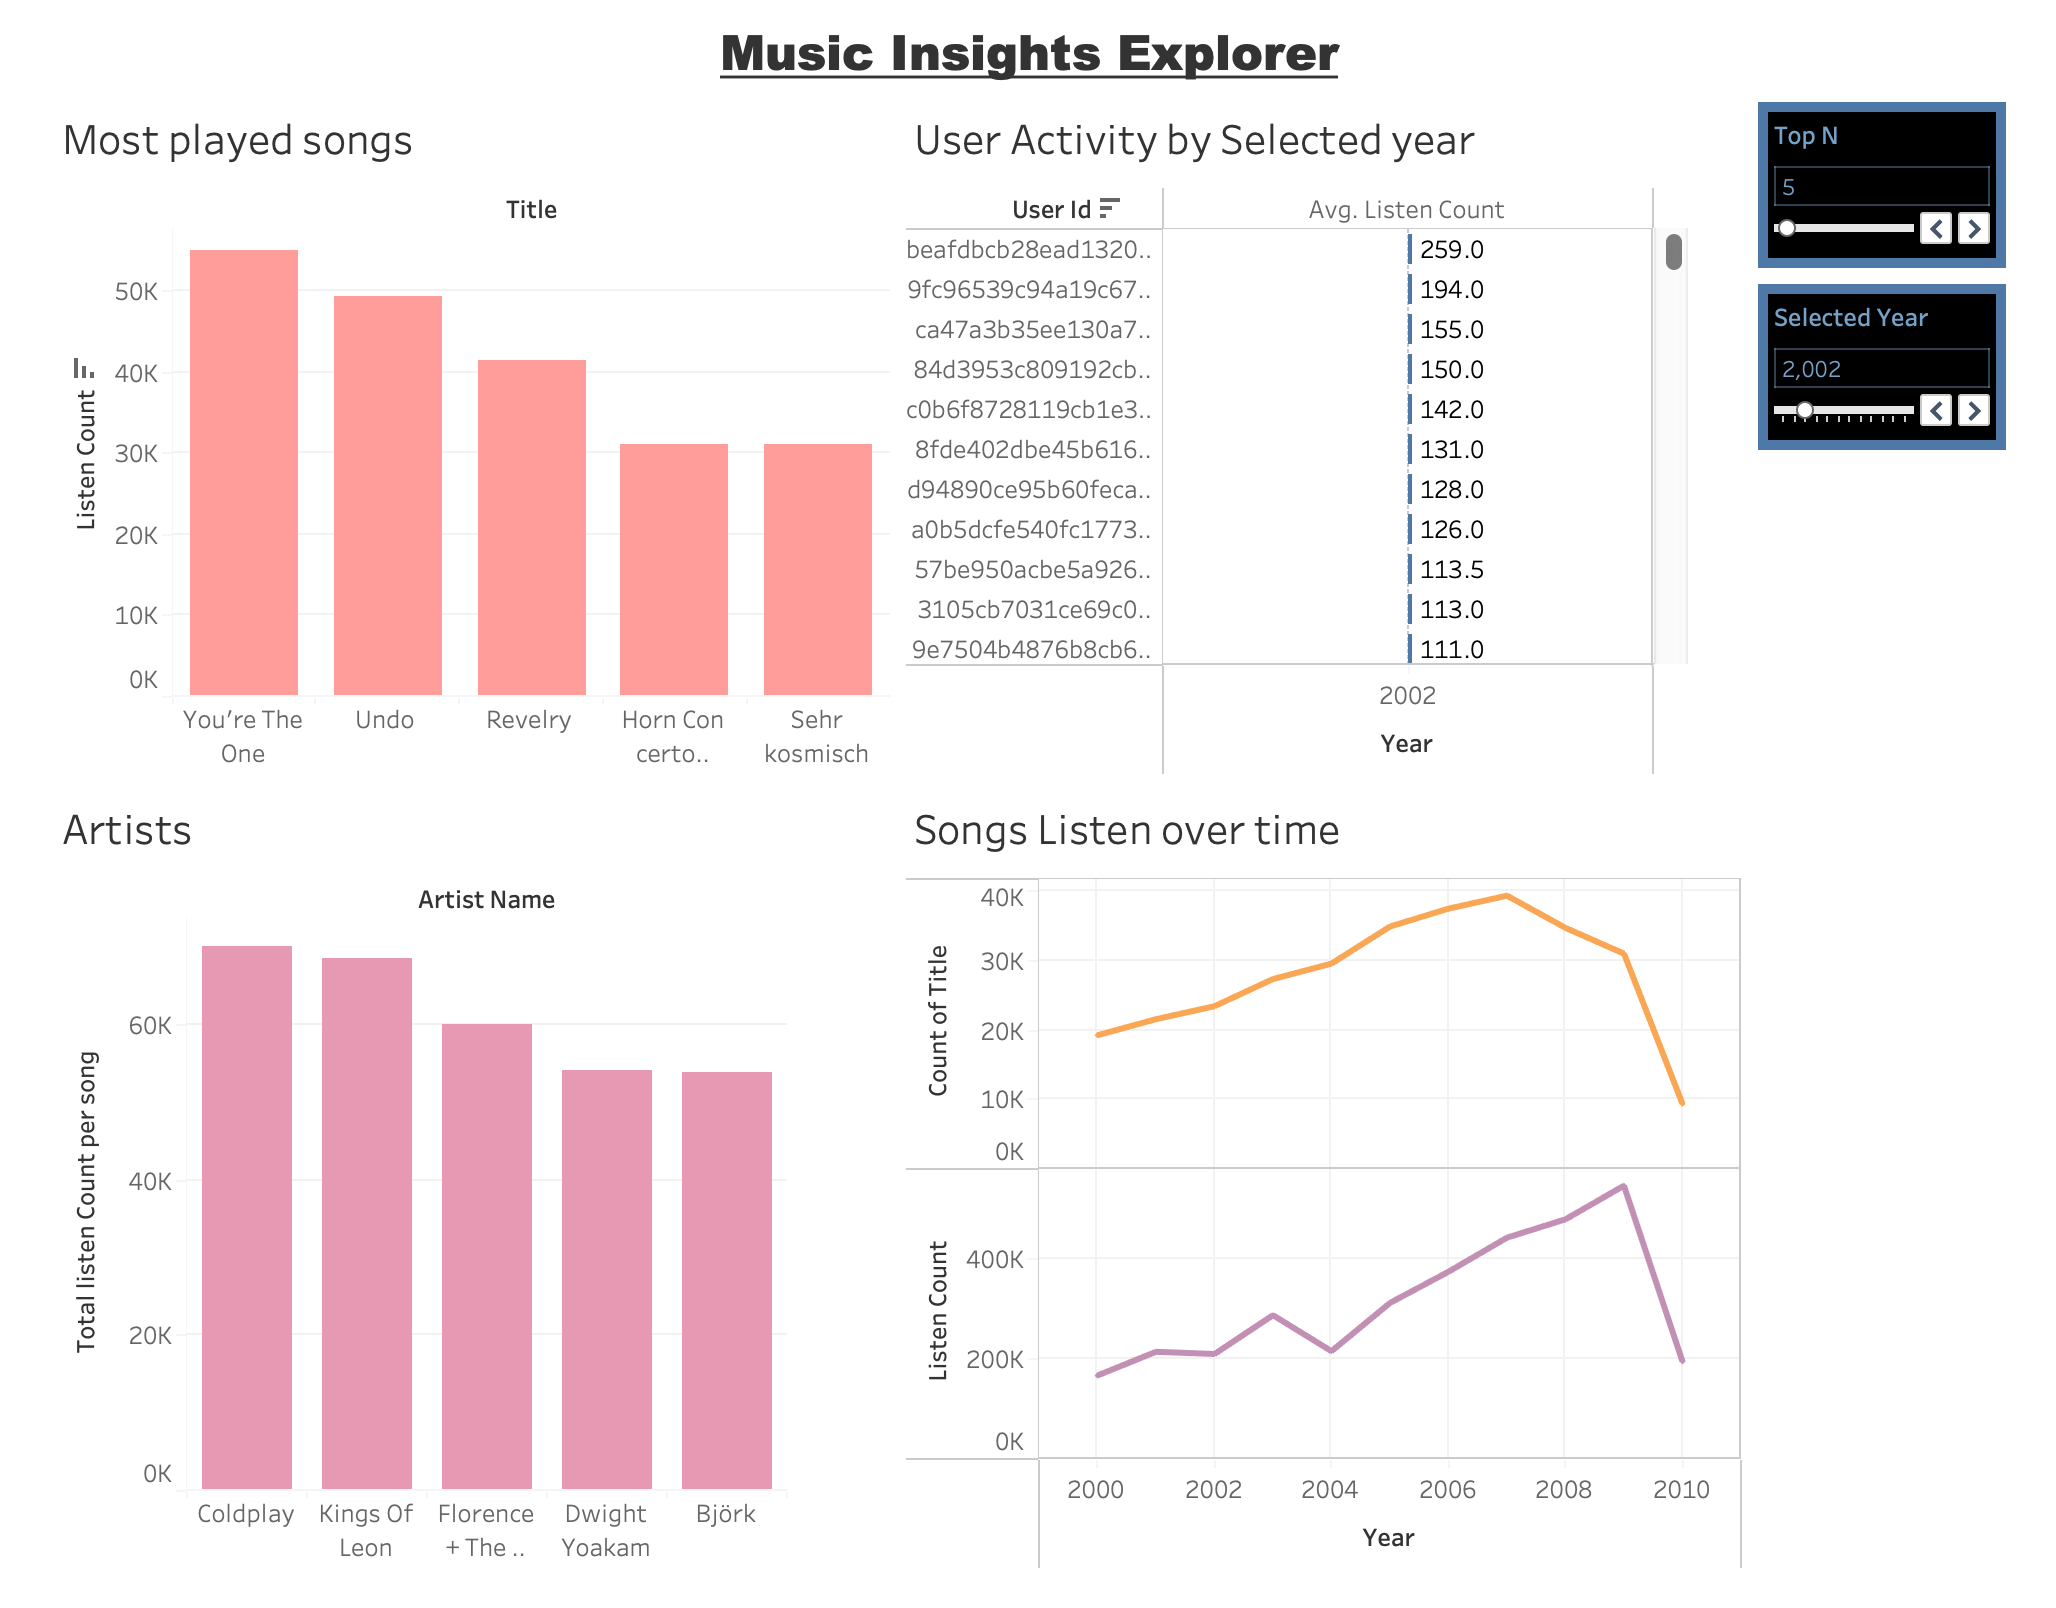

What the dashboard file says about the page in this screenshot:
{"tool":"tableau","page":{"name":"Dashboard 1","canvas":[1000,800],"ordinal":0},"visuals":[{"type":"title","box":[8,8,984,42]},{"type":"worksheet","title":"Songs","mark":"Automatic","rows":["listen_count"],"cols":["title"],"box":[8,50,426,345.4]},{"type":"worksheet","title":"User","mark":"Automatic","rows":["user_id"],"cols":["year"],"box":[434,50,426,345.4]},{"type":"parameter","param":"[Parameters].[Parameter 1]","box":[860,50,132,91]},{"type":"parameter","param":"[Parameters].[Parameter 2]","box":[860,141,132,91]},{"type":"worksheet","title":"Artists","mark":"Automatic","rows":["Calculation_73253899642028032"],"cols":["artist_name"],"box":[8,395.4,426,396.6]},{"type":"worksheet","title":"Time","mark":"Automatic","rows":["title","listen_count"],"cols":["year"],"box":[434,395.4,426,396.6]}]}

Visuals, with their boxes in screenshot pixels (x1, y1, x2, y2), scaled from the page's 1000x800 canvas onto the 2056x1608 screenshot:
title: rect(16, 16, 2040, 100)
"Songs" worksheet: rect(16, 100, 892, 795)
"User" worksheet: rect(892, 100, 1768, 795)
parameter: rect(1768, 100, 2040, 283)
parameter: rect(1768, 283, 2040, 466)
"Artists" worksheet: rect(16, 795, 892, 1592)
"Time" worksheet: rect(892, 795, 1768, 1592)
